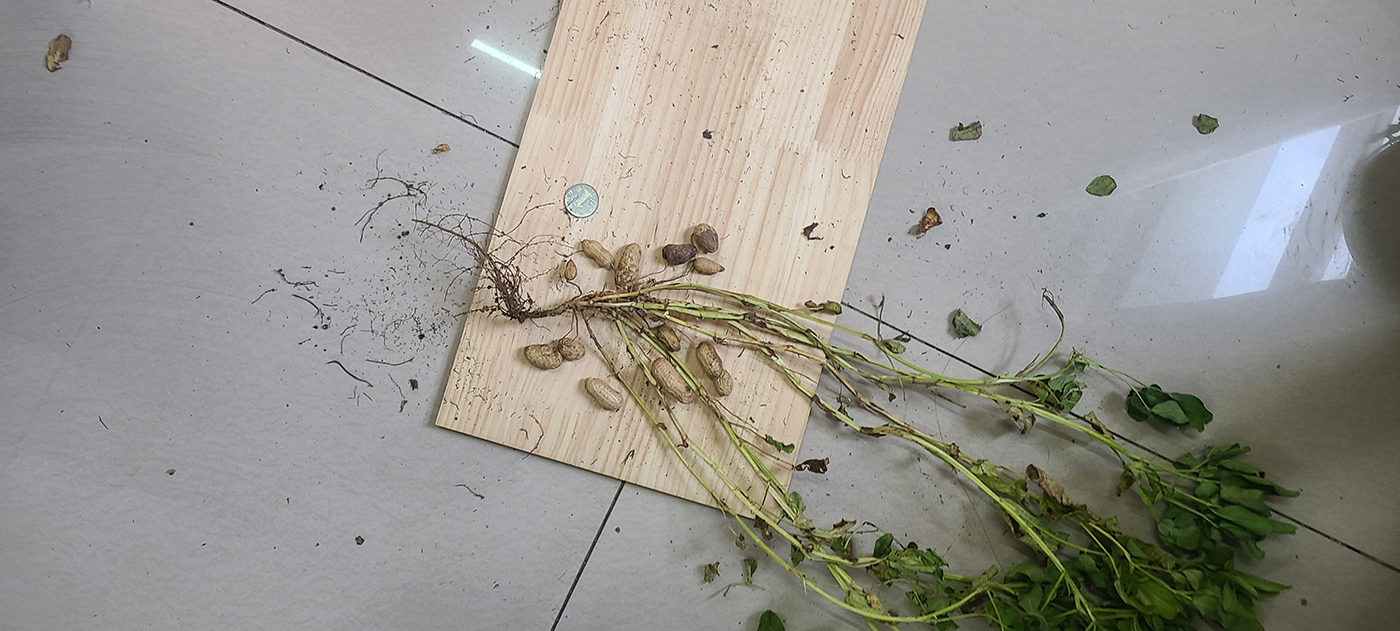h: (696, 342, 733, 396), (653, 360, 695, 404), (585, 378, 622, 411), (614, 242, 637, 287), (582, 239, 614, 270), (524, 344, 562, 368), (658, 325, 682, 352), (693, 258, 724, 276), (560, 339, 585, 361)
l: (693, 224, 719, 252), (662, 244, 695, 264)
